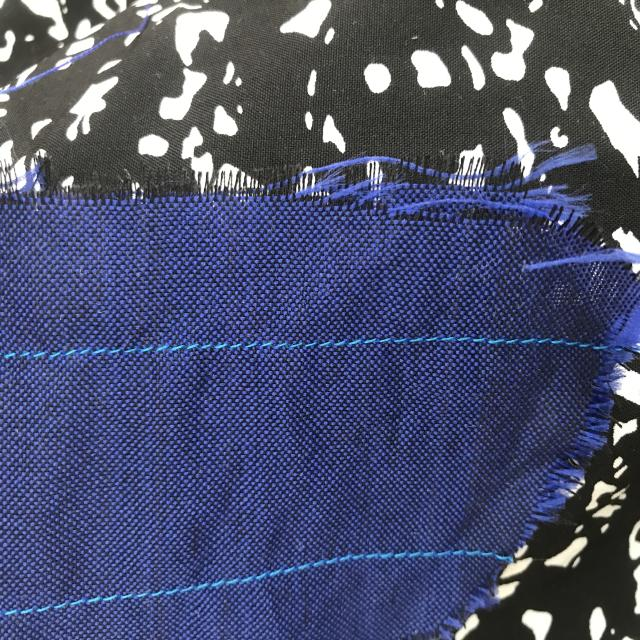good: (425, 329, 557, 354), (319, 334, 409, 351)
